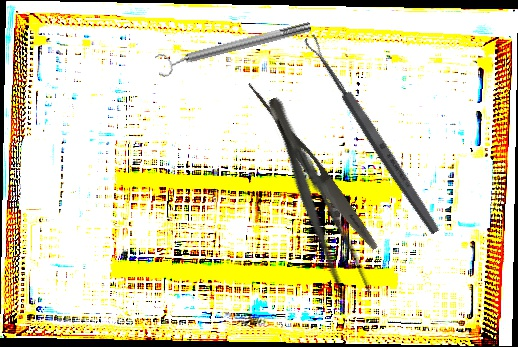Dressing Forceps: (254, 91, 377, 306), (240, 78, 383, 254)
Fixation Ring: (154, 15, 314, 79)
Surgical Spoon: (302, 32, 443, 237)
